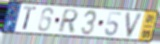3: (81, 9, 97, 36)
5: (104, 11, 123, 37)
6: (37, 7, 55, 33)
R: (57, 9, 80, 34)
T: (22, 5, 38, 31)
V: (125, 12, 145, 39)
